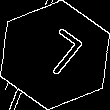L_SW: (25, 26, 85, 84)
